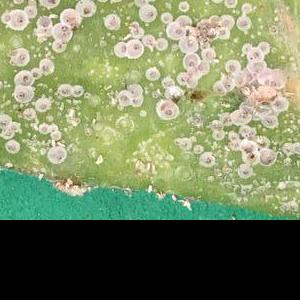Femea: (14, 74, 32, 100), (119, 86, 141, 107), (156, 100, 176, 119), (116, 41, 141, 56), (51, 22, 71, 40), (8, 13, 26, 29), (9, 51, 27, 66), (182, 36, 198, 51), (37, 58, 52, 74), (169, 22, 184, 37), (144, 65, 159, 80), (200, 152, 214, 168), (183, 54, 198, 68), (224, 60, 240, 72), (238, 163, 250, 177), (141, 35, 156, 46), (36, 97, 48, 110), (237, 16, 248, 30), (154, 37, 165, 50), (0, 13, 11, 25), (30, 67, 40, 78), (159, 13, 171, 21)
Macho: (120, 38, 133, 45)
